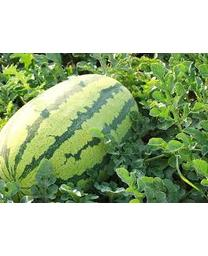watermelon: (2, 74, 142, 191)
